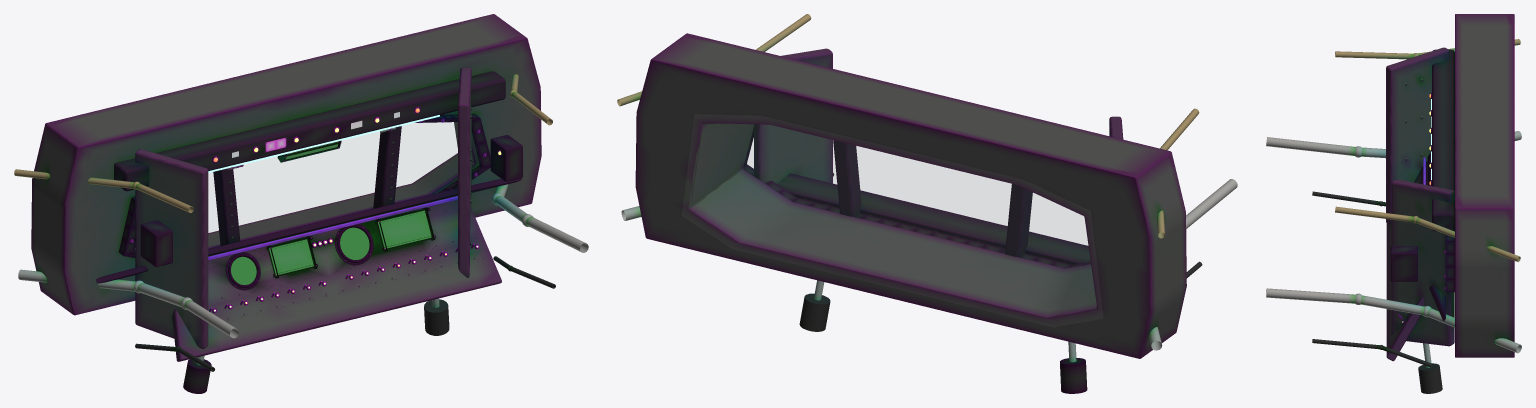
File: titan.glb
3 renders of one model, left to right at view 1: azimuth 30°, elevation 25°; view 2: azimuth 150°, elevation 25°; view 3: azimuth 270°, elevation 25°, orthographic. The views are drawn at different scales.
Visible parts, largest first — view 1: static.paint, static.paint_dark, glass.visor, static.steel, static.brass, static.screen.weapons, static.trim, static.screen.hull, grid.anim.stick_r, static.rubber, static.screen.radar, grid.anim.stick_l (+2 smaller); view 2: static.paint, glass.visor, static.paint_dark, static.brass, static.steel, grid.anim.stick_r, grid.anim.stick_l; view 3: static.paint, static.paint_dark, static.steel, static.brass, static.rubber, grid.anim.stick_r.
Part boxes in pixels (left/top/right/bottom): static.paint: left=31, top=14, right=541, bottom=361; static.paint_dark: left=96, top=71, right=522, bottom=312; glass.visor: left=209, top=122, right=457, bottom=232; static.steel: left=18, top=107, right=588, bottom=338; static.brass: left=14, top=74, right=552, bottom=212; static.screen.weapons: left=378, top=210, right=431, bottom=248; static.trim: left=208, top=196, right=457, bottom=260; static.screen.hull: left=269, top=239, right=313, bottom=275; grid.anim.stick_r: left=424, top=298, right=449, bottom=335; static.rubber: left=135, top=256, right=555, bottom=371; static.screen.radar: left=340, top=227, right=369, bottom=259; grid.anim.stick_l: left=183, top=355, right=211, bottom=393; static.paint: left=635, top=33, right=1186, bottom=358; glass.visor: left=682, top=115, right=1102, bottom=326; static.paint_dark: left=743, top=127, right=1090, bottom=268; static.brass: left=617, top=14, right=1199, bottom=238; static.steel: left=621, top=179, right=1237, bottom=350; grid.anim.stick_r: left=799, top=280, right=830, bottom=331; grid.anim.stick_l: left=1060, top=341, right=1087, bottom=393; static.paint: left=1386, top=14, right=1514, bottom=361; static.paint_dark: left=1390, top=49, right=1454, bottom=332; static.steel: left=1266, top=93, right=1521, bottom=353; static.brass: left=1335, top=39, right=1520, bottom=261; static.rubber: left=1312, top=191, right=1432, bottom=367; grid.anim.stick_r: left=1418, top=343, right=1442, bottom=393.
Bounding box in the file's own units: 2.26 × 1.1 × 1.11.
